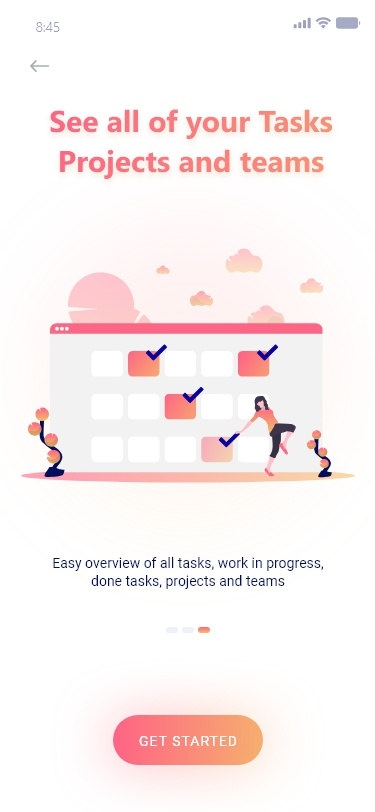Icon: (30, 60, 52, 74)
Image: (22, 248, 355, 483)
PageIndicator: (165, 626, 212, 635)
Text: (50, 109, 333, 180), (53, 556, 324, 590)
TextButton: (113, 715, 264, 765)
UpperTaskBar: (36, 17, 361, 34)
